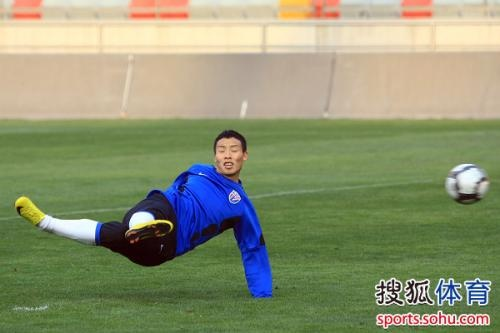falling: (15, 119, 278, 293)
